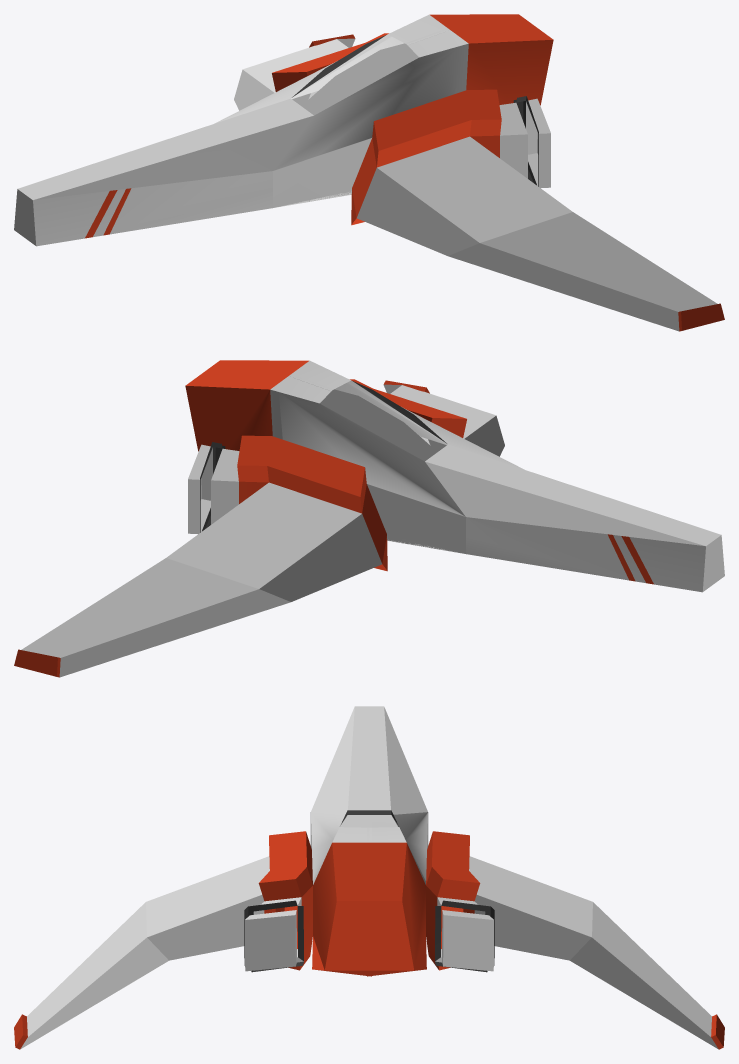
File: CaveRacer.obj
3 views of the same model, one above another, from view 1: azimuth 30°, elevation 25°; view 2: azimuth 150°, elevation 25°; view 3: azimuth 270°, elevation 25° (orthographic). The views are drawn at different scales.
Visible parts, largest first — view 1: Cube; view 2: Cube; view 3: Cube.
Part boxes in pixels (box(x1,y1,x2,y2)): Cube: box(14, 14, 724, 331); Cube: box(14, 360, 724, 677); Cube: box(14, 706, 724, 1049).
Size of the model in its own units: 10.14 by 3.35 by 12.94.
